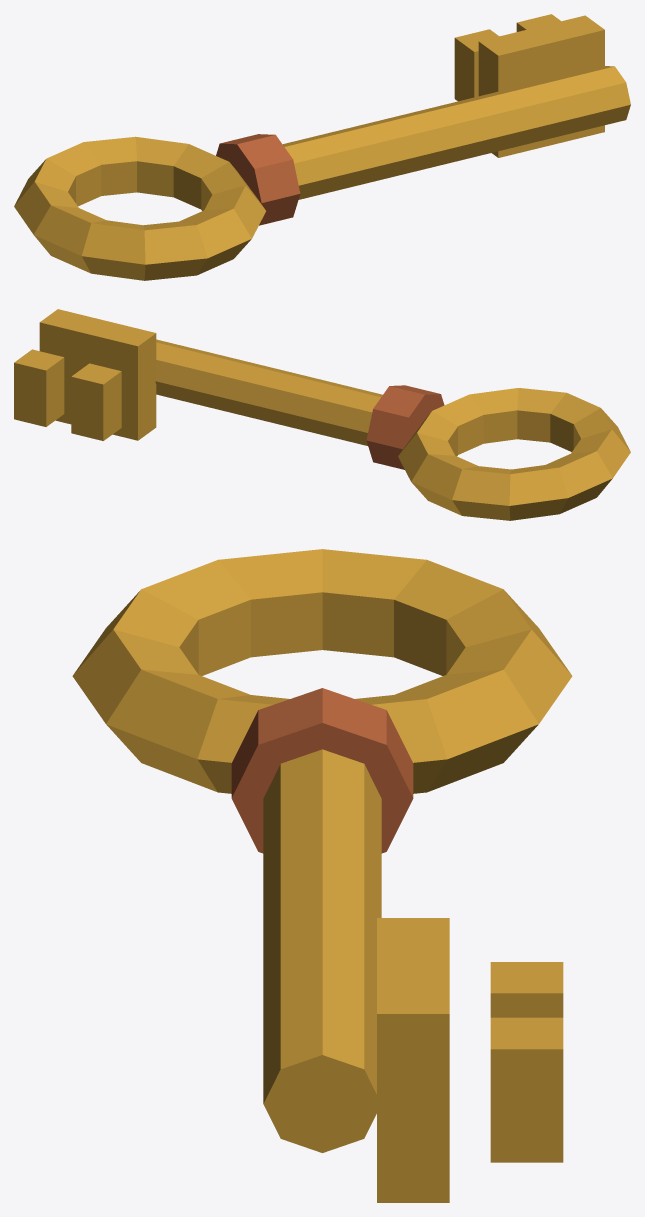
Rendered from TrainKey.fbx.
3 views of the same model, one above another, from view 1: azimuth 30°, elevation 25°; view 2: azimuth 150°, elevation 25°; view 3: azimuth 270°, elevation 25° (orthographic). The views are drawn at different scales.
Visible parts, largest first — view 1: TrainKey; view 2: TrainKey; view 3: TrainKey.
Boxes of the visible parts, left/top/right/bottom form: TrainKey: left=14, top=14, right=630, bottom=280; TrainKey: left=14, top=309, right=630, bottom=520; TrainKey: left=72, top=549, right=572, bottom=1202.
Size of the model in its own units: 3 by 0.5 by 1.2.
